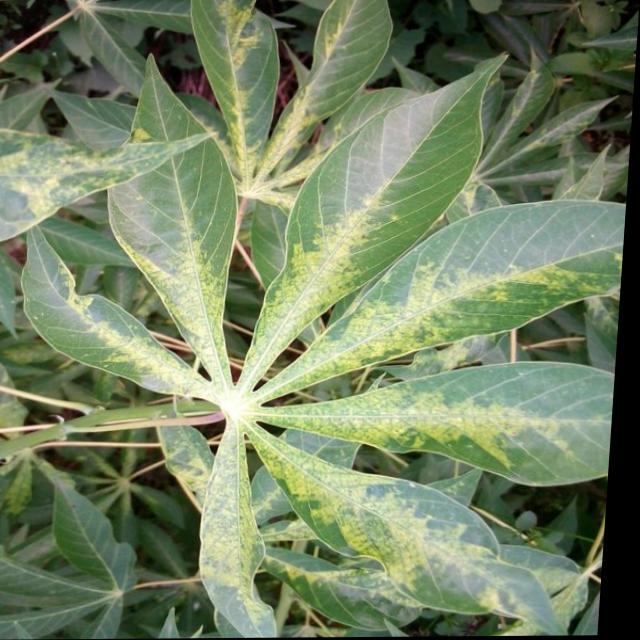Mosaico: (74, 229, 617, 595), (145, 0, 403, 176)
